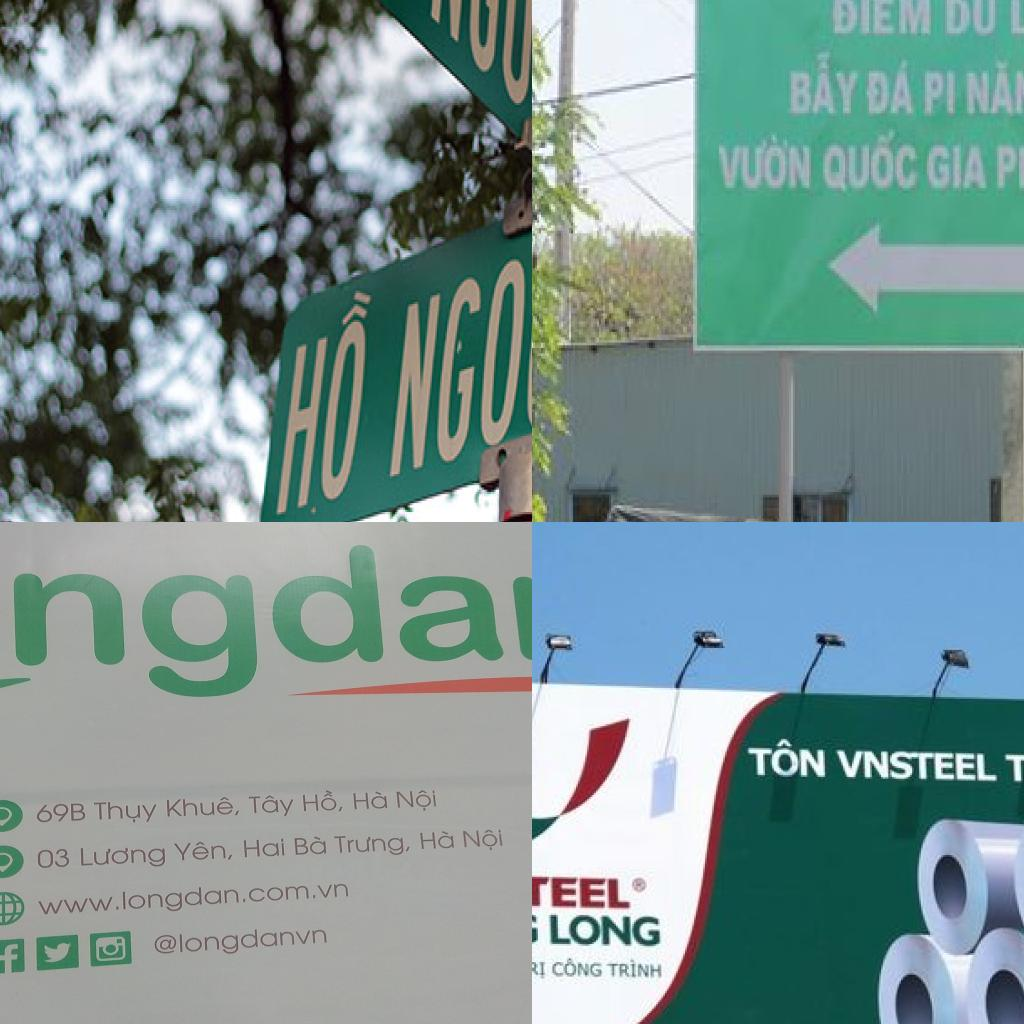text: (0, 522, 261, 718), (379, 232, 532, 485), (264, 538, 532, 664), (262, 273, 383, 522), (423, 0, 532, 183), (37, 878, 351, 918), (830, 746, 1003, 786), (823, 129, 919, 196), (715, 132, 813, 193), (151, 926, 331, 957), (787, 52, 861, 119), (547, 911, 663, 951), (532, 869, 638, 911), (743, 734, 830, 782), (831, 0, 933, 38), (963, 62, 1024, 118), (863, 57, 917, 119), (927, 143, 989, 193), (78, 844, 166, 870), (943, 0, 999, 38), (995, 129, 1024, 193), (921, 68, 957, 119), (164, 796, 242, 818), (335, 834, 413, 856), (93, 801, 159, 825), (551, 955, 605, 982), (171, 840, 235, 862), (605, 959, 665, 982), (247, 792, 299, 818), (35, 802, 86, 824), (301, 789, 346, 812), (394, 789, 438, 812), (462, 829, 508, 851), (241, 838, 287, 858), (350, 790, 389, 811), (35, 846, 71, 868), (420, 830, 456, 851), (294, 836, 328, 856), (532, 958, 548, 982)
